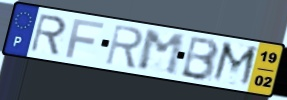B: (178, 35, 221, 82)
F: (64, 18, 106, 60)
M: (209, 40, 261, 90), (136, 28, 187, 78)
R: (103, 23, 145, 70), (28, 13, 68, 57)
